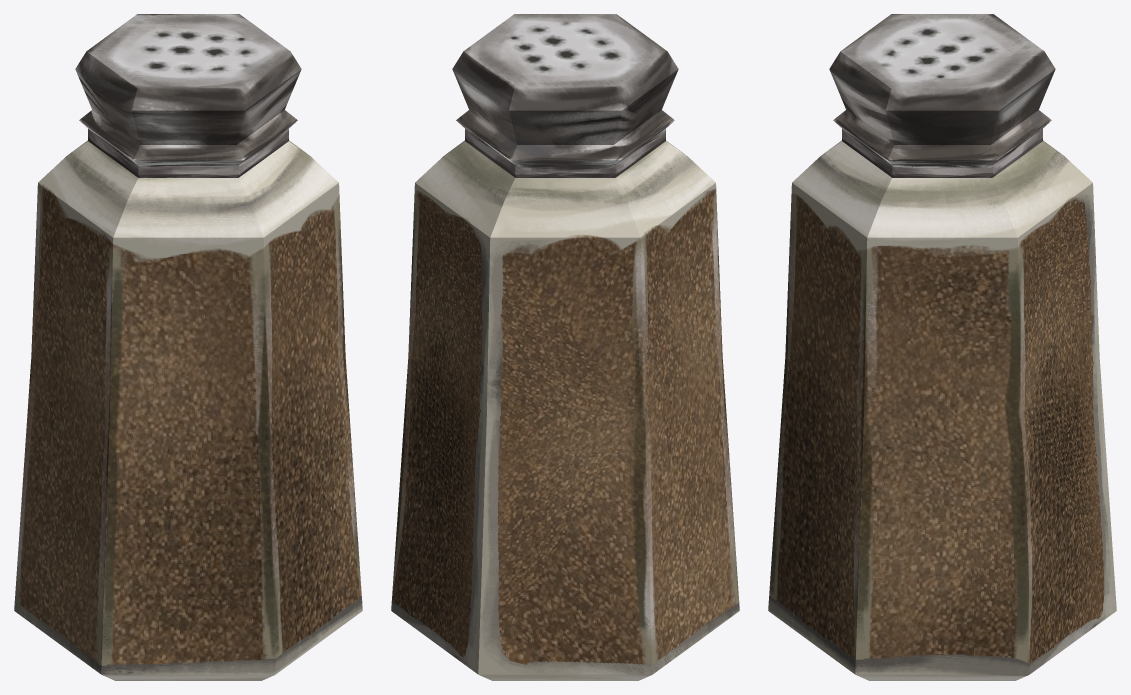
The model's file is peppershaker.fbx.
The picture shows the model from 3 angles, left to right: view 1: azimuth 30°, elevation 25°; view 2: azimuth 150°, elevation 25°; view 3: azimuth 270°, elevation 25°; orthographic projection.
Parts seen in each view (by area): view 1: pepper shaker; view 2: pepper shaker; view 3: pepper shaker.
Part boxes in pixels (x1,y1,x2,y2): pepper shaker: (14,14,362,680); pepper shaker: (391,14,739,680); pepper shaker: (768,14,1116,680).
Size of the model in its own units: 30.14 by 63.45 by 34.8.
